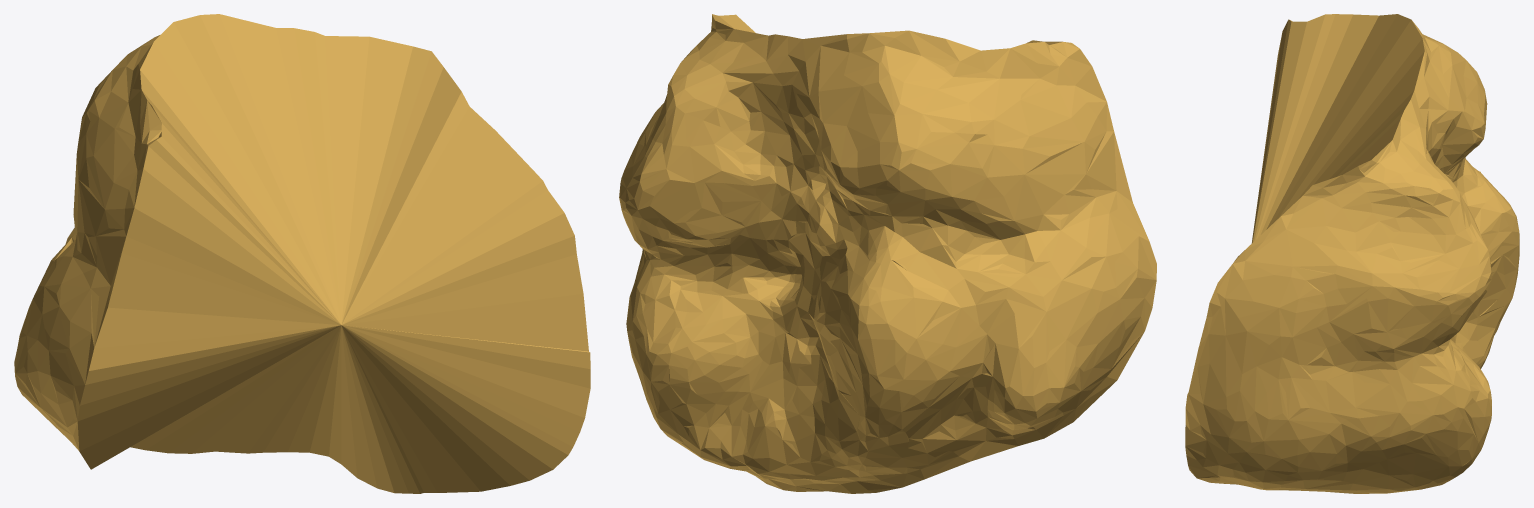
The model's file is Crown_26__Demo_Virtual_Patient.obj.
The picture shows the model from 3 angles, left to right: view 1: azimuth 30°, elevation 25°; view 2: azimuth 150°, elevation 25°; view 3: azimuth 270°, elevation 25°; orthographic projection. The views are drawn at different scales.
Size of the model in its own units: 12.22 by 11.8 by 8.87.
